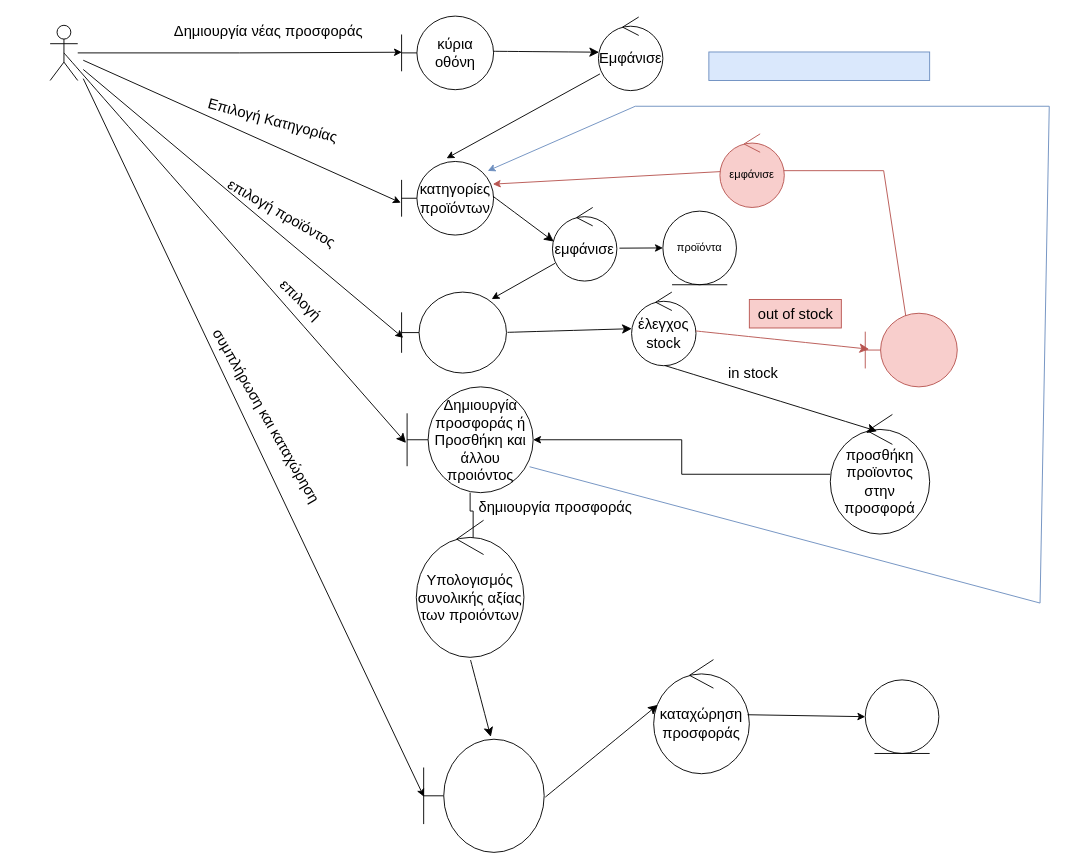
The diagram is 1073 pixels wide and 868 high, and some of its shapes have lost their labels. Here are the shapes that lost their labels. From the top down, the box of each, then its label:
(49, 24, 78, 80): φαρμακοποιός
(708, 51, 930, 80): προσθήκη και άλλου προϊόντος
(401, 291, 506, 373): Προιόντα
(864, 312, 957, 387): μη διαθέσιμο προϊόν
(864, 679, 939, 753): προσφορές
(423, 738, 544, 852): φόρμα καταχώρησης προσφοράς
